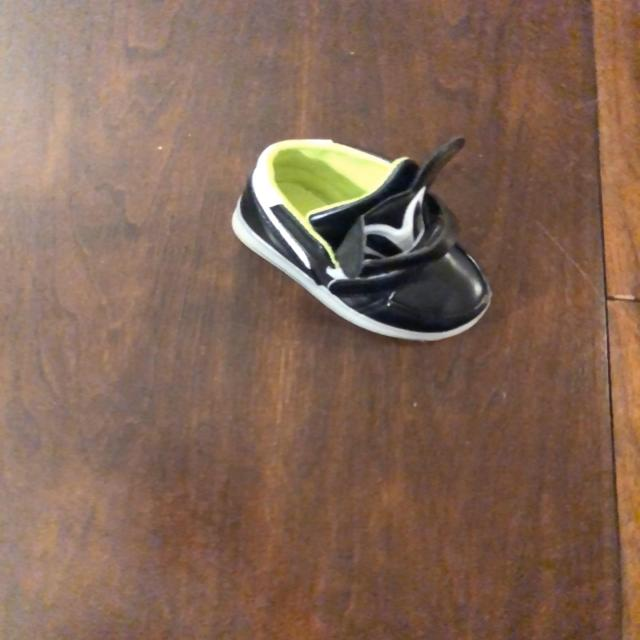shoe: (230, 139, 493, 346)
